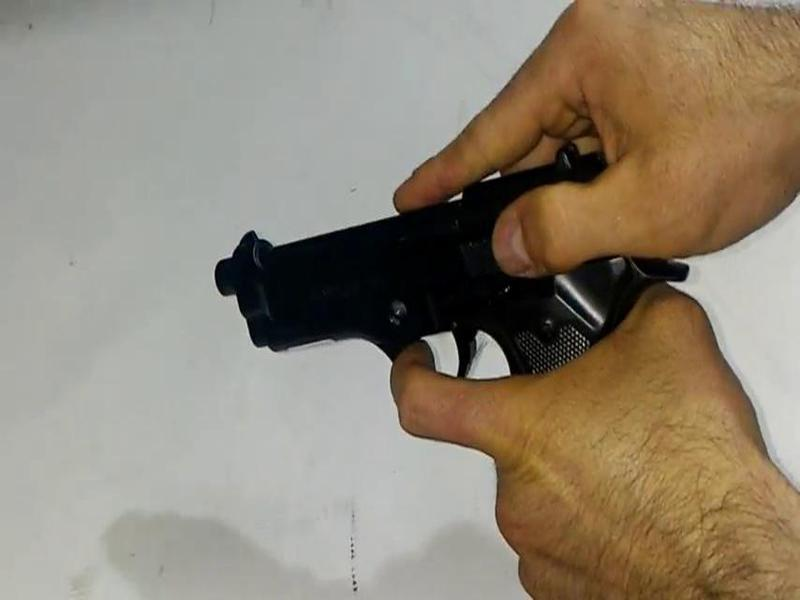Pistola: (163, 127, 724, 467)
